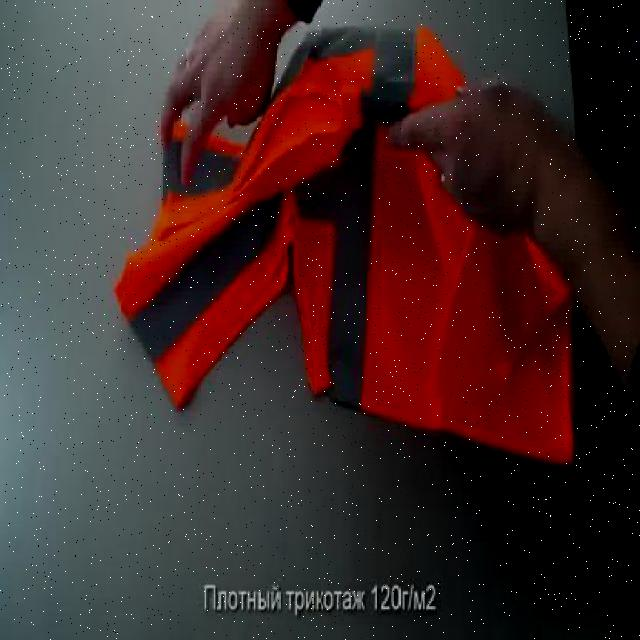Mask: (111, 15, 580, 472)
